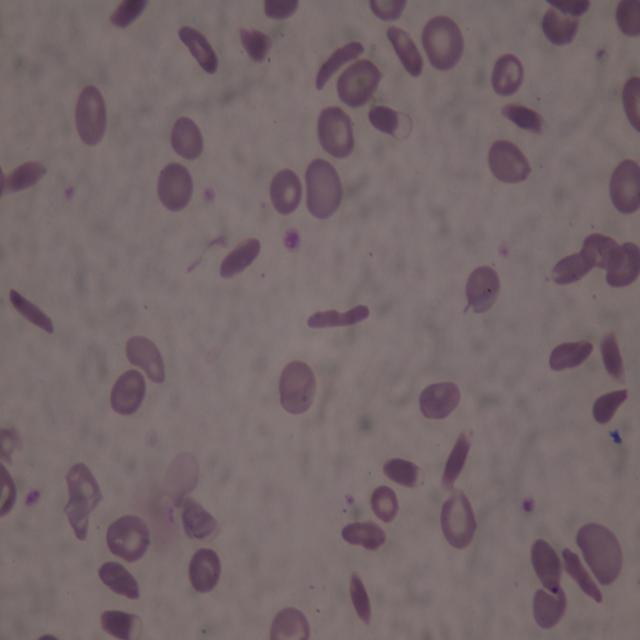Crystal: (176, 23, 219, 77), (386, 25, 423, 78), (440, 429, 472, 490), (218, 235, 261, 279), (97, 560, 142, 599), (551, 247, 596, 286), (2, 158, 47, 194), (340, 518, 388, 551), (548, 338, 594, 372), (502, 102, 548, 135), (599, 331, 627, 381), (348, 571, 372, 626), (383, 457, 424, 489), (110, 1, 150, 32)
Normal: (420, 15, 464, 70), (608, 158, 640, 213), (370, 484, 401, 522)
Others: (61, 459, 100, 542), (575, 521, 622, 586), (303, 156, 344, 219), (440, 484, 477, 550), (105, 513, 152, 562), (337, 60, 383, 109), (316, 105, 356, 159), (123, 335, 167, 384), (280, 359, 319, 413), (74, 85, 108, 146), (155, 161, 195, 210), (367, 101, 414, 142), (489, 139, 530, 185), (180, 495, 220, 542), (461, 267, 501, 314), (531, 539, 563, 595), (108, 370, 146, 416), (581, 233, 625, 272), (417, 380, 461, 419), (170, 113, 204, 161), (530, 584, 566, 628), (590, 388, 632, 424), (267, 169, 301, 213), (540, 8, 579, 46), (188, 546, 220, 592), (490, 54, 524, 96), (238, 24, 274, 63), (606, 242, 637, 287), (270, 608, 312, 638), (99, 608, 143, 636), (62, 490, 102, 518), (620, 76, 639, 130), (614, 0, 640, 39), (545, 0, 591, 19), (1, 461, 16, 518), (368, 0, 406, 22), (0, 426, 19, 464), (263, 0, 299, 19)
Sickle: (314, 39, 366, 92), (560, 548, 604, 606), (9, 286, 55, 338), (304, 301, 372, 331)
